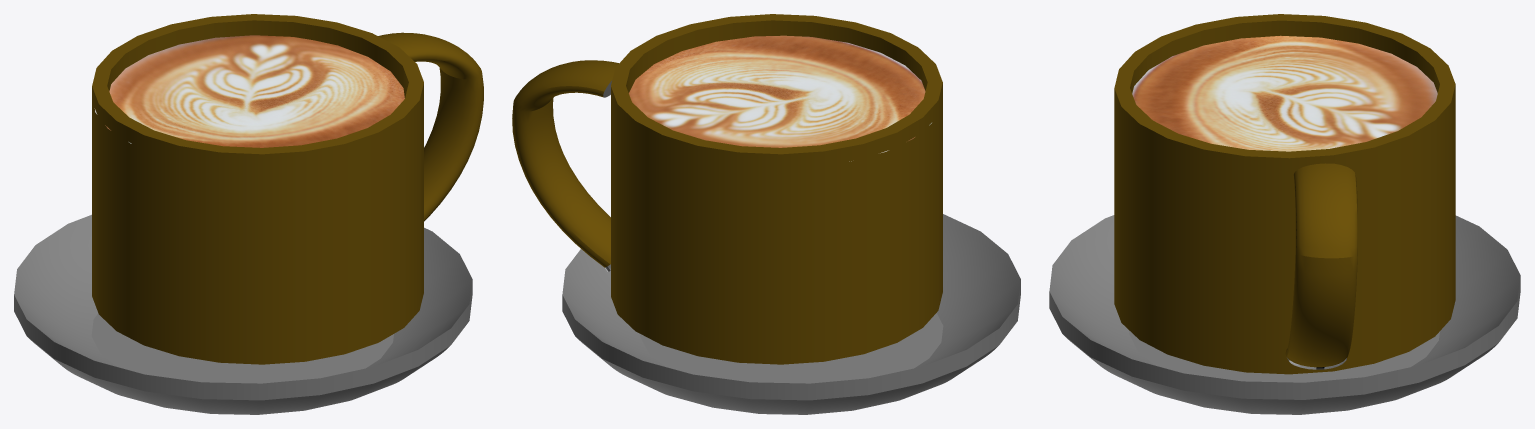
File: kapicino.glb
The picture shows the model from 3 angles, left to right: view 1: azimuth 30°, elevation 25°; view 2: azimuth 150°, elevation 25°; view 3: azimuth 270°, elevation 25°; orthographic projection. The views are drawn at different scales.
Parts seen in each view (by area): view 1: root; view 2: root; view 3: root.
Part boxes in pixels (x1,y1,x2,y2): root: [14, 14, 483, 414]; root: [512, 14, 1020, 414]; root: [1049, 14, 1520, 414].
Size of the model in its own units: 0.073 by 0.0391 by 0.0641.
Materials: 5 (2 with a texture image).
